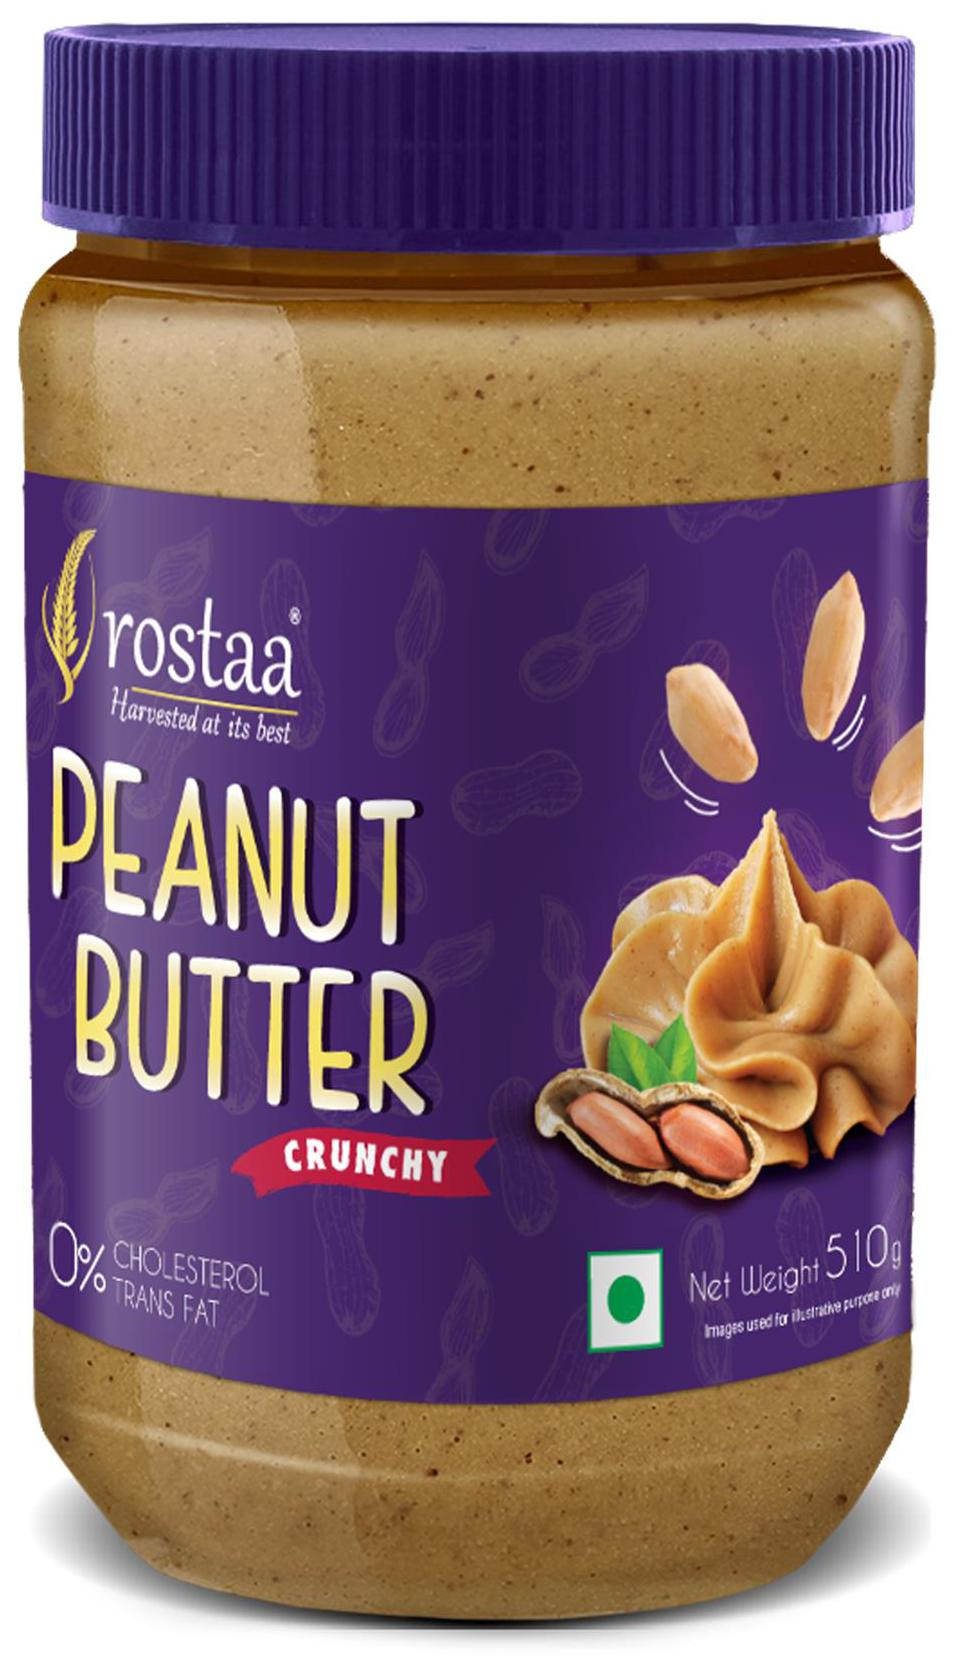JAR: (11, 10, 948, 1638)
